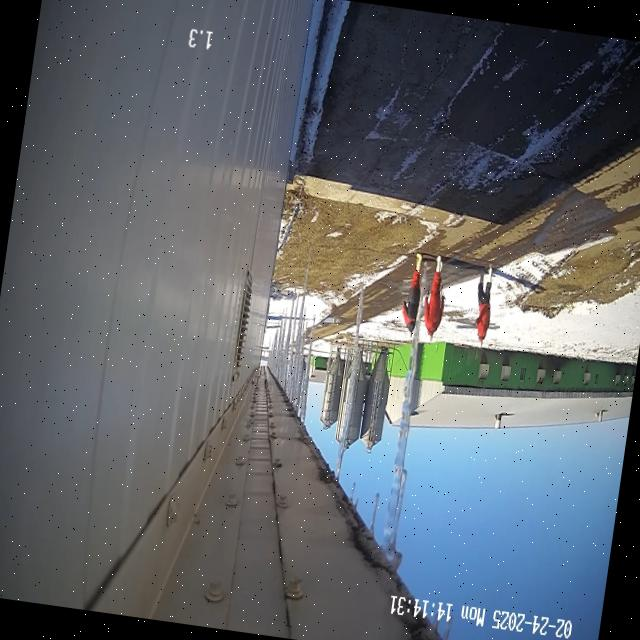Red uniform: (424, 256, 445, 338), (403, 254, 423, 333), (475, 267, 493, 345)
